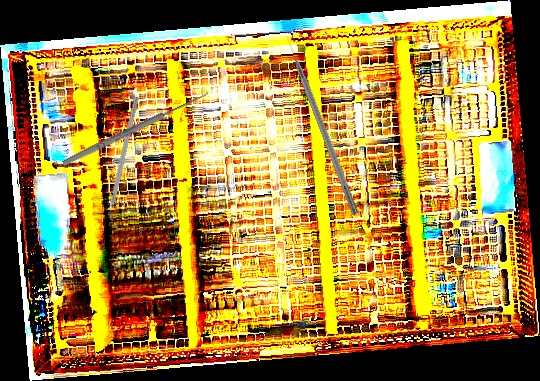Chopper: (97, 94, 140, 226)
Hook Surgical: (284, 33, 361, 216), (58, 83, 211, 169)
